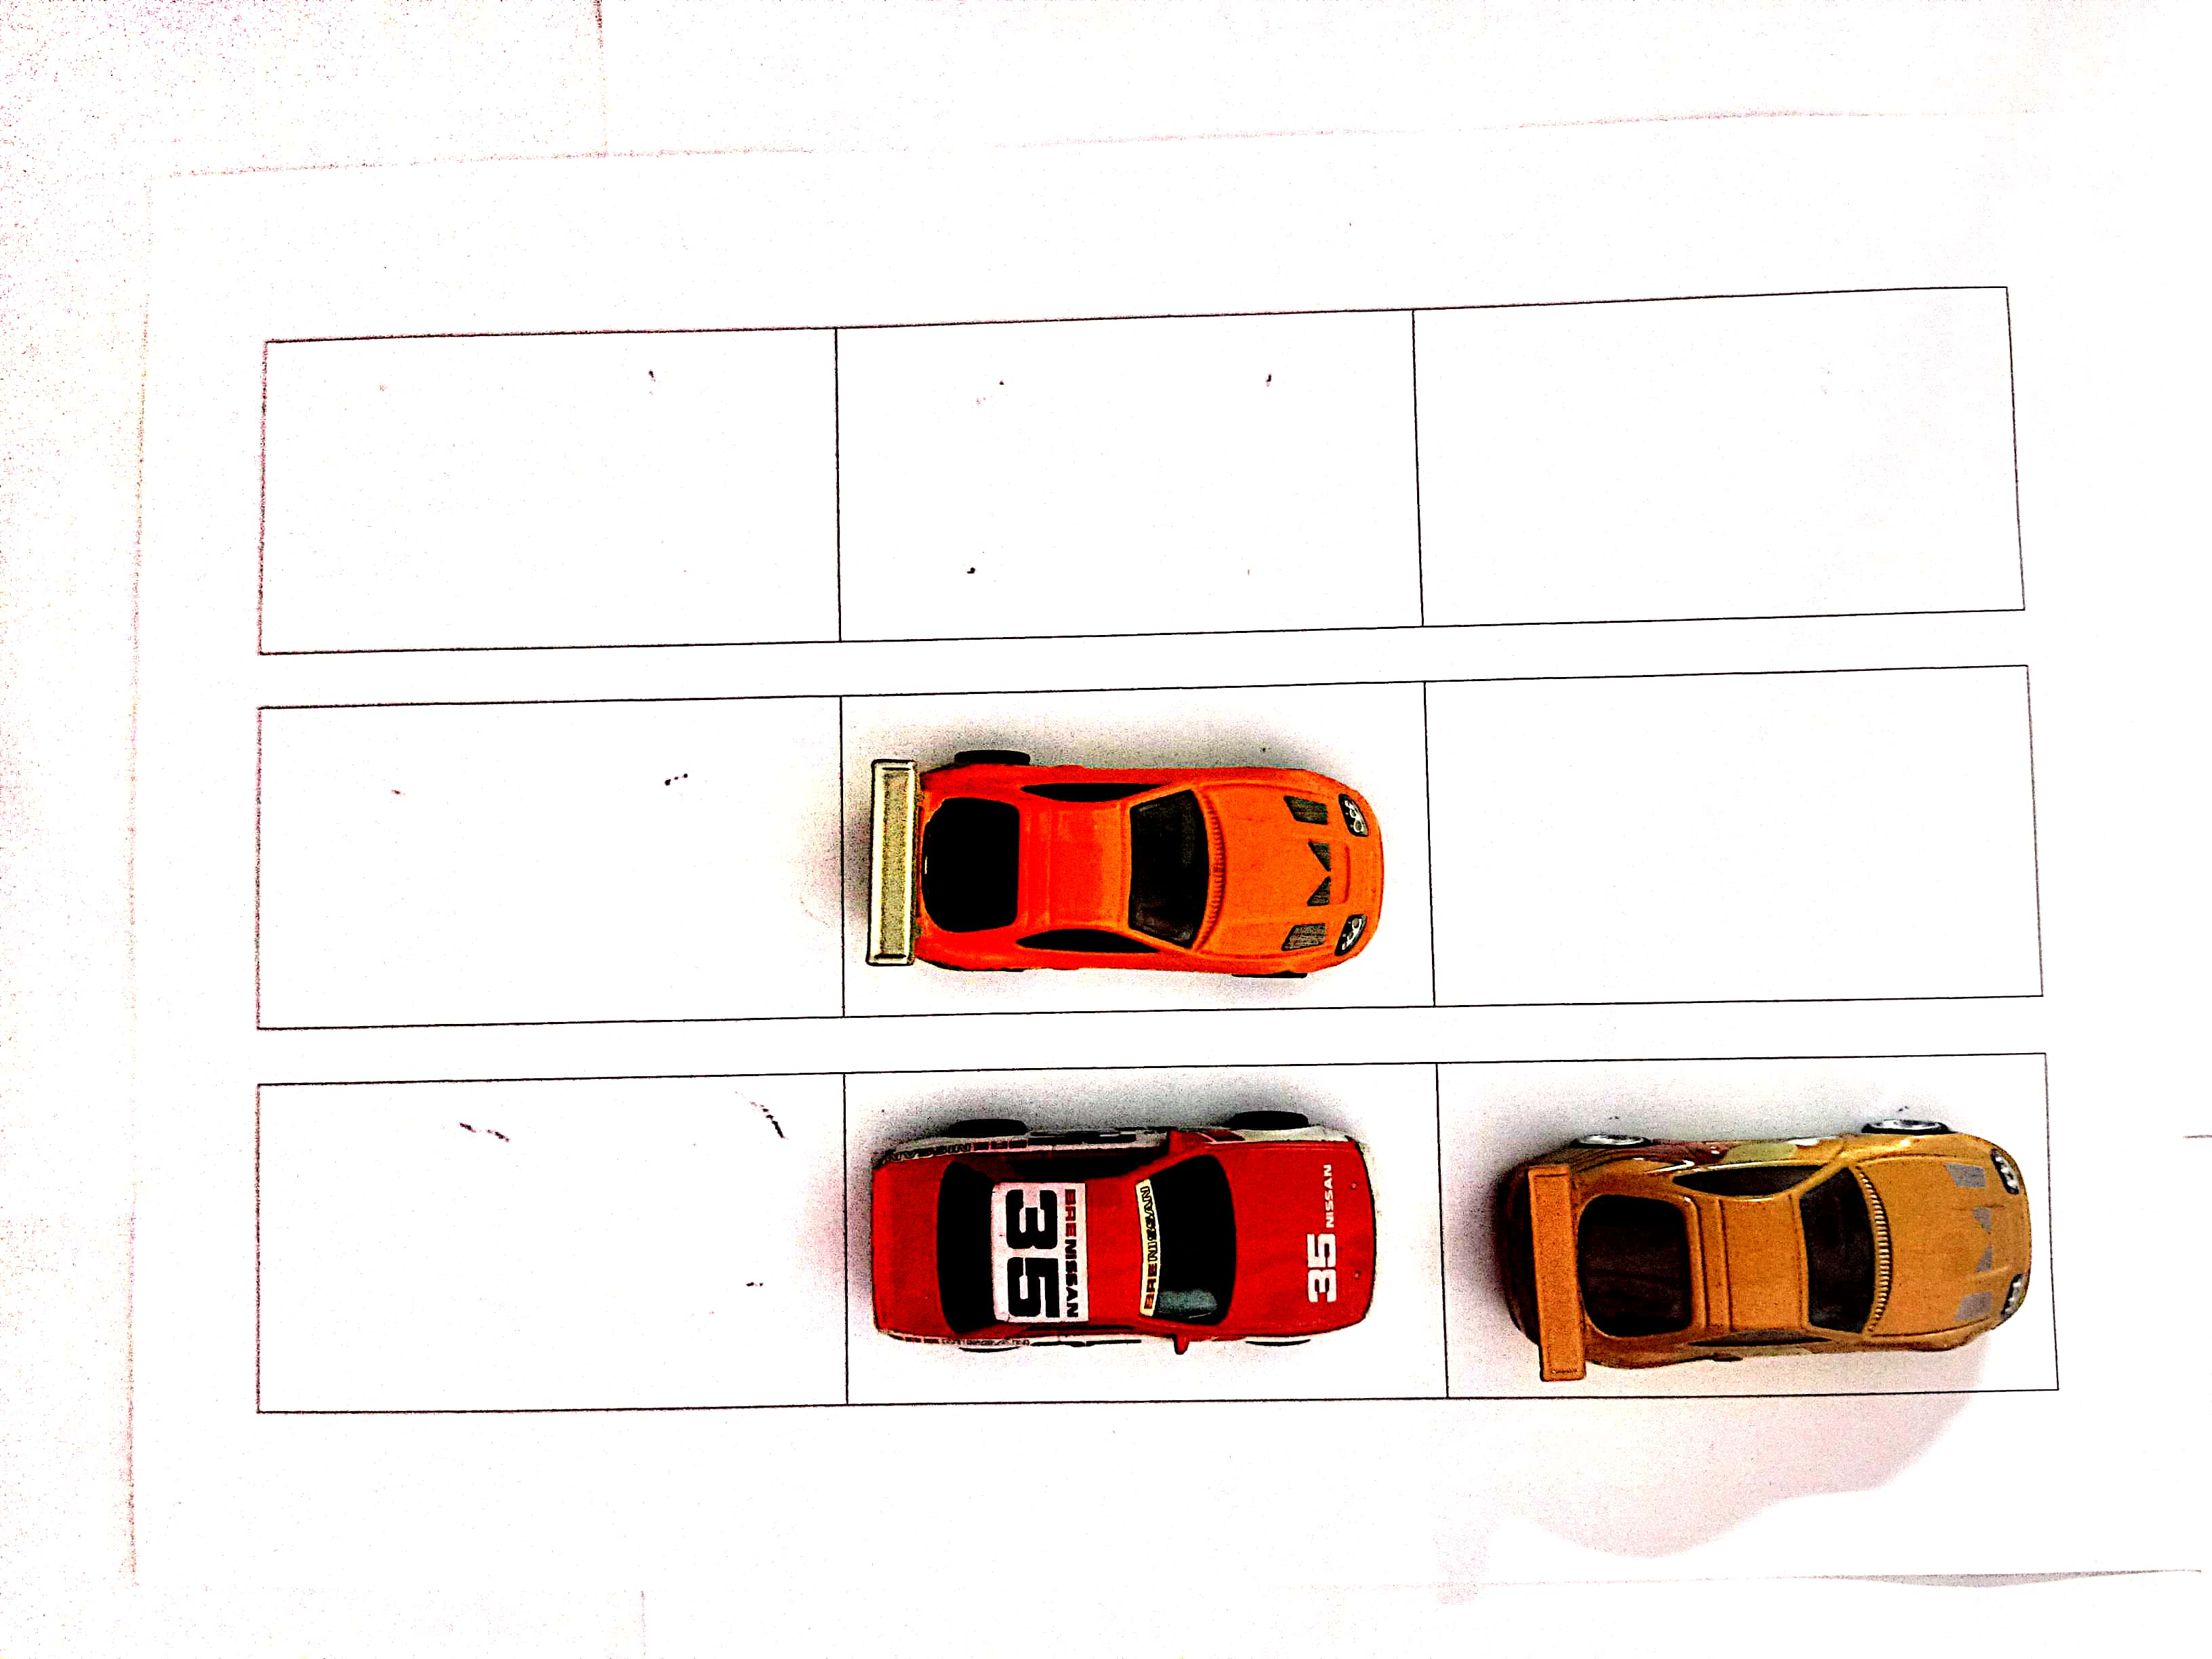Busy: (1446, 1053, 2050, 1401), (843, 1065, 1437, 1401), (840, 687, 1425, 1009)
Free: (1428, 667, 2034, 1000), (1420, 293, 2017, 619), (261, 1075, 845, 1401), (265, 697, 834, 1028), (270, 331, 836, 653), (840, 319, 1414, 636)
